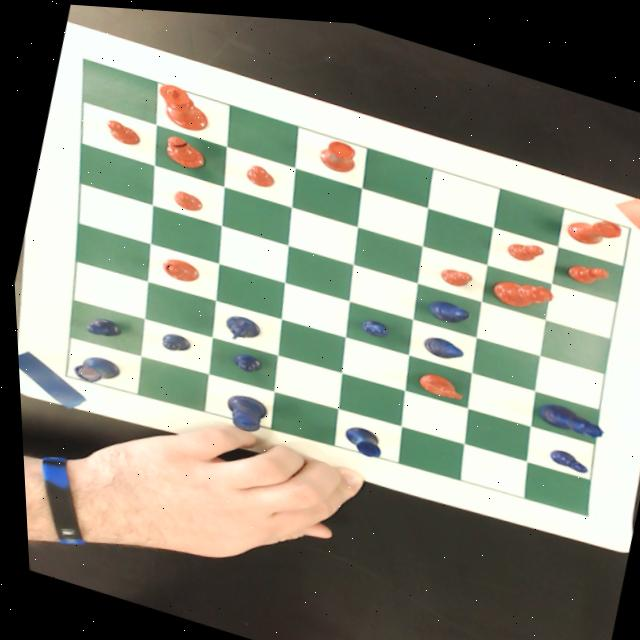B: (421, 289, 469, 323), (416, 325, 463, 358)
K: (217, 386, 267, 432)
N: (218, 308, 260, 342)
P: (542, 438, 588, 467), (79, 310, 121, 340), (155, 327, 190, 354), (226, 346, 261, 373), (355, 310, 387, 334)
Q: (530, 391, 604, 433)
R: (65, 346, 119, 389), (335, 416, 382, 455)
b: (159, 130, 208, 169), (156, 252, 200, 283)
k: (150, 78, 214, 132)
n: (411, 363, 462, 395)
p: (561, 248, 609, 283), (100, 115, 144, 146), (502, 229, 544, 259), (168, 184, 204, 211), (243, 158, 277, 186), (436, 258, 472, 284)
q: (485, 263, 554, 309)
r: (562, 200, 622, 245), (315, 130, 359, 170)
